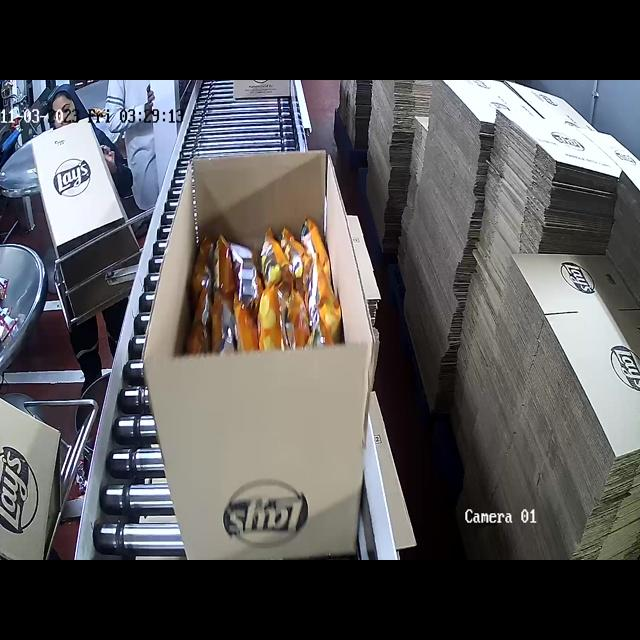cheese: (193, 235, 348, 355)
